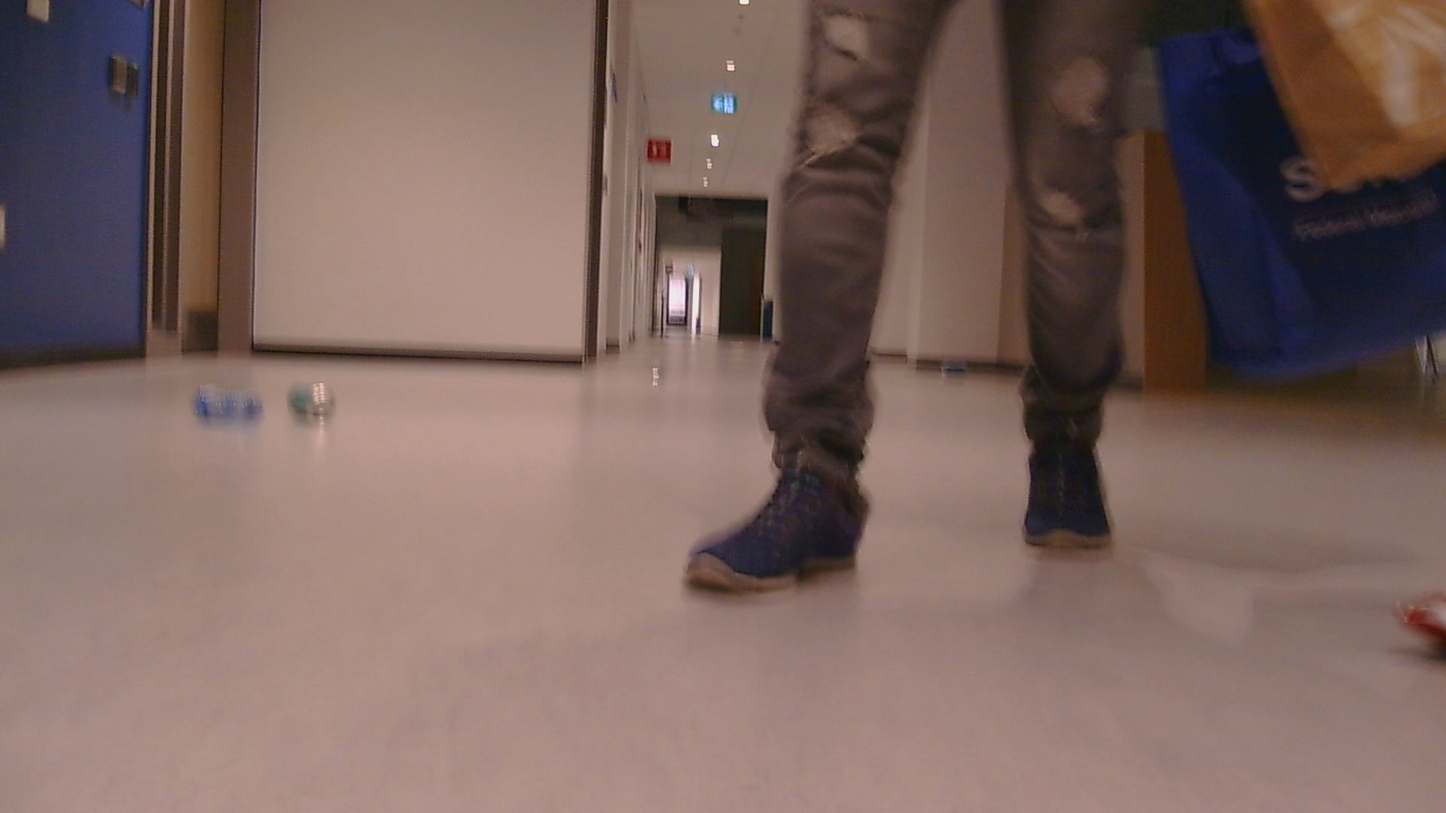carton: (191, 372, 269, 441), (283, 372, 349, 433)
